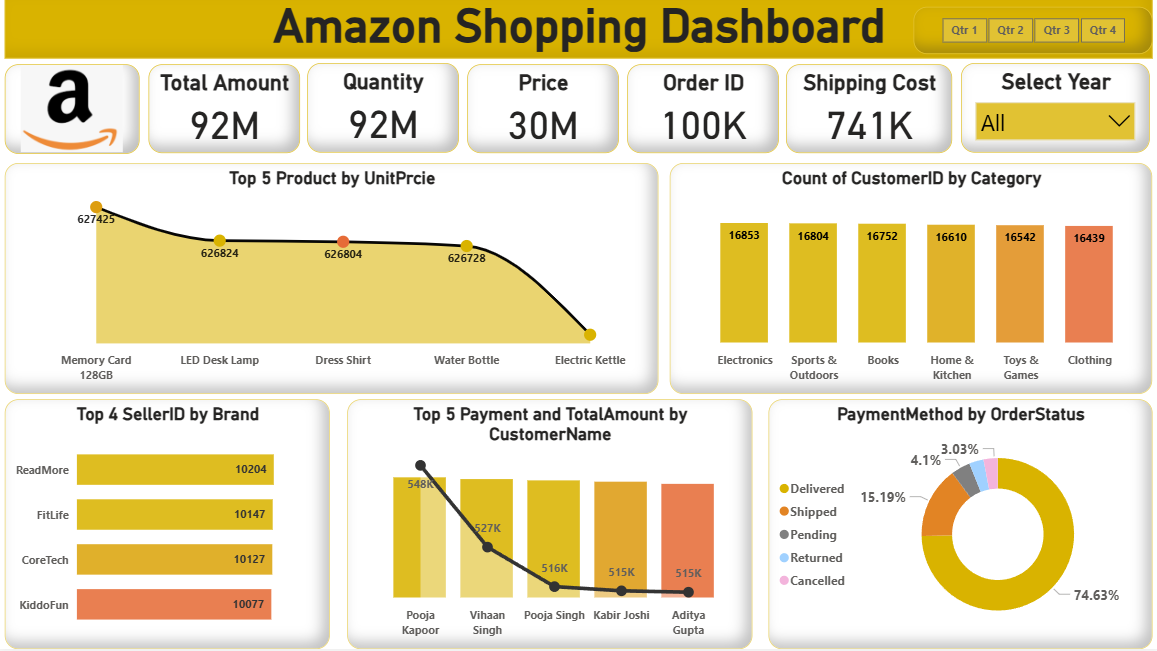

Layout of this report page (visuals, bound fields, positions):
{"tool":"powerbi","page":{"name":"Page 1","canvas":[1280,720],"ordinal":0},"visuals":[{"type":"textbox","title":"Amazon Shopping Dashboard","box":[10,5,1260,66.7],"z":0},{"type":"card","title":"Total Amount","fields":{"Values":["Sum(Amazon.TotalAmount)"]},"box":[167.1,78.2,166,97.4],"z":1000},{"type":"filledMap","title":"States","fields":{"Category":["Amazon.State"]},"box":[848,186.6,421.3,253.9],"z":2000},{"type":"columnChart","title":"Count of CustomerID by Category","fields":{"Category":["Amazon.Category"],"Y":["CountNonNull(Amazon.CustomerID)"]},"box":[373.2,186.6,467.9,253.9],"z":4000},{"type":"image","box":[10,77.6,148,98],"z":5000},{"type":"lineClusteredColumnComboChart","title":"Top 5 Payment and TotalAmount by CustomerName","fields":{"Category":["Amazon.CustomerName"],"Y":["CountNonNull(Amazon.PaymentMethod)"],"Y2":["Sum(Amazon.TotalAmount)"]},"box":[9.6,186.6,356.8,253.9],"z":6000},{"type":"barChart","title":"Top 4 SellerID by Brand","fields":{"Category":["Amazon.Brand"],"Y":["CountNonNull(Amazon.SellerID)"]},"box":[9.6,446,356.8,274.4],"z":7000},{"type":"donutChart","title":" PaymentMethod by OrderStatus","fields":{"Category":["Amazon.OrderStatus"],"Y":["CountNonNull(Amazon.ProductID)"]},"box":[848,446,421.3,274.4],"z":8000},{"type":"card","title":"Quantity","fields":{"Values":["Sum(Amazon.TotalAmount)"]},"box":[342.3,76.8,166,98.8],"z":9000},{"type":"card","title":"Price","fields":{"Values":["Sum(Amazon.UnitPrice)"]},"box":[517.4,78.2,166,97.4],"z":10000},{"type":"card","title":"Order ID","fields":{"Values":["CountNonNull(Amazon.OrderID)"]},"box":[692.6,78.2,166,97.4],"z":11000},{"type":"slicer","title":"Select Year","fields":{"Values":["Amazon.OrderDate.Variation.Date Hierarchy.Year"]},"box":[1059.4,76.8,207.2,98.8],"z":12000},{"type":"slicer","title":"OrderDate Quarter","fields":{"Values":["Amazon.OrderDate.Variation.Date Hierarchy.Quarter"]},"box":[1007.2,15.1,262.1,52.1],"z":13000},{"type":"card","title":"Shipping Cost","fields":{"Values":["Sum(Amazon.ShippingCost)"]},"box":[867.7,78.2,182.5,97.4],"z":14000},{"type":"stackedAreaChart","title":"Top 5  Product by UnitPrcie","fields":{"Category":["Amazon.ProductName"],"Y":["Sum(Amazon.UnitPrice)"]},"box":[374.6,446,466.6,274.4],"z":15000}]}

Visuals, with their boxes in screenshot pixels (x1, y1, x2, y2), scaled from the page's 1280x720 canvas onto the 1157x651 screenshot:
"Amazon Shopping Dashboard" textbox: 9, 5, 1148, 65
"Total Amount" card: 151, 71, 301, 159
"States" filledMap: 767, 169, 1147, 398
"Count of CustomerID by Category" columnChart: 337, 169, 760, 398
image: 9, 70, 143, 159
"Top 5 Payment and TotalAmount by CustomerName" lineClusteredColumnComboChart: 9, 169, 331, 398
"Top 4 SellerID by Brand" barChart: 9, 403, 331, 650
" PaymentMethod by OrderStatus" donutChart: 767, 403, 1147, 650
"Quantity" card: 309, 69, 459, 159
"Price" card: 468, 71, 618, 159
"Order ID" card: 626, 71, 776, 159
"Select Year" slicer: 958, 69, 1145, 159
"OrderDate Quarter" slicer: 910, 14, 1147, 61
"Shipping Cost" card: 784, 71, 949, 159
"Top 5  Product by UnitPrcie" stackedAreaChart: 339, 403, 760, 650
